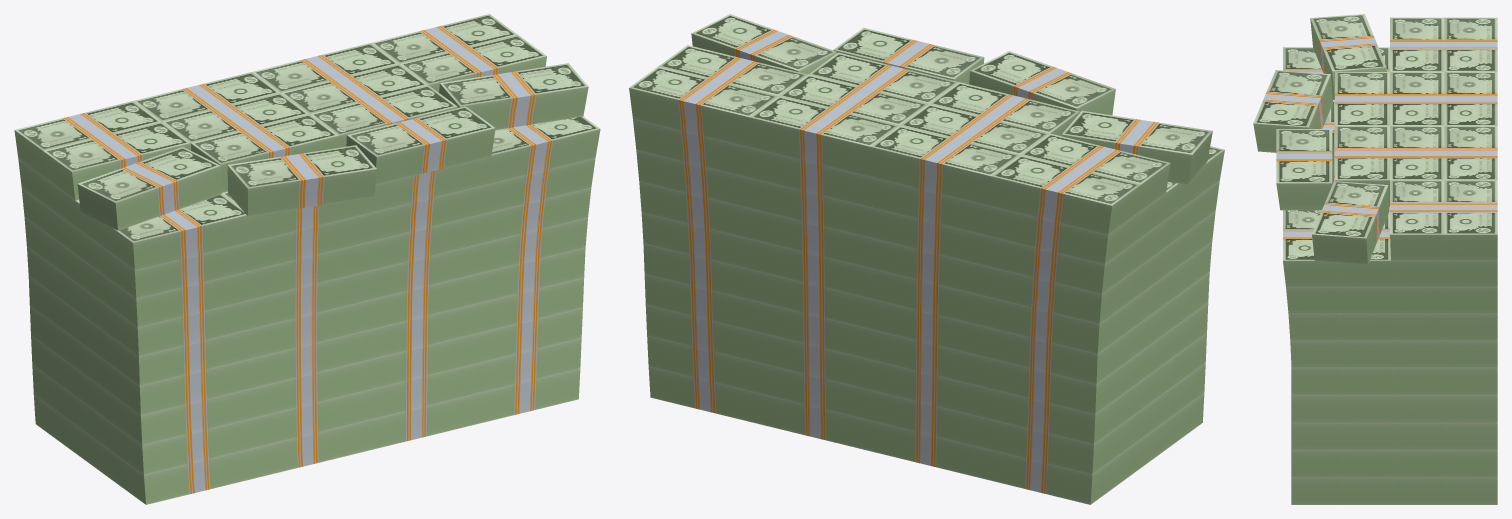
Rendered from BankMoney01_5.FBX.
The picture shows the model from 3 angles, left to right: view 1: azimuth 30°, elevation 25°; view 2: azimuth 150°, elevation 25°; view 3: azimuth 270°, elevation 25°; orthographic projection. The views are drawn at different scales.
Parts seen in each view (by area): view 1: BankMoney01_5; view 2: BankMoney01_5; view 3: BankMoney01_5.
Boxes of the visible parts, left/top/right/bottom form: BankMoney01_5: left=14, top=14, right=600, bottom=504; BankMoney01_5: left=629, top=14, right=1224, bottom=504; BankMoney01_5: left=1253, top=14, right=1497, bottom=504.
Size of what is drawn, in the model's own units: 0.8596 by 0.5 by 0.3955.
